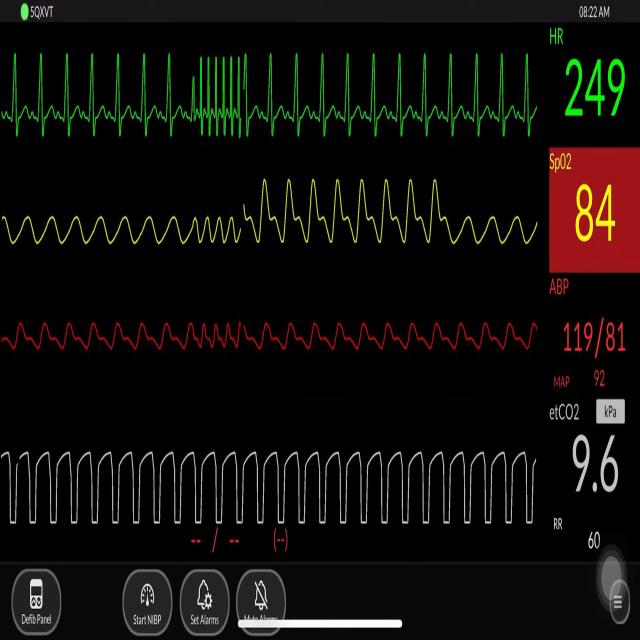danger: (190, 40, 250, 151)
